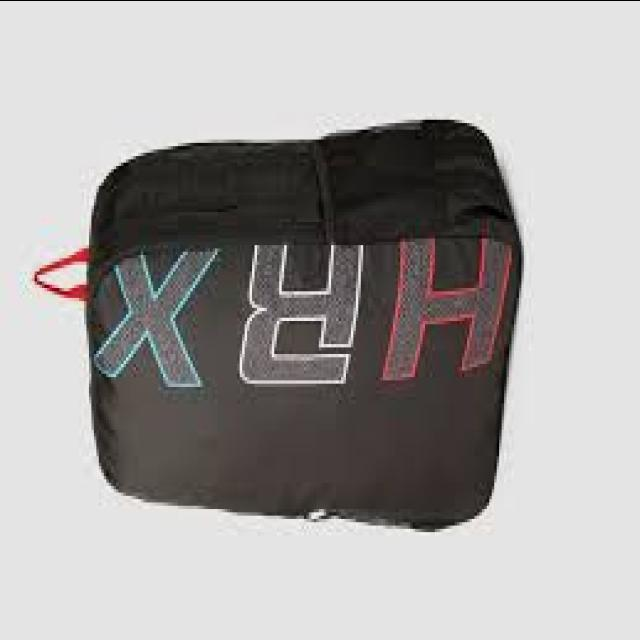backpack: (33, 120, 523, 536)
